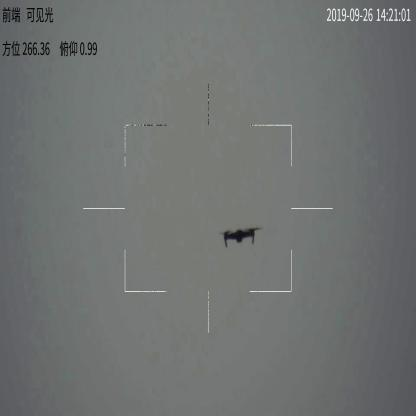uav: (216, 229, 261, 251)
